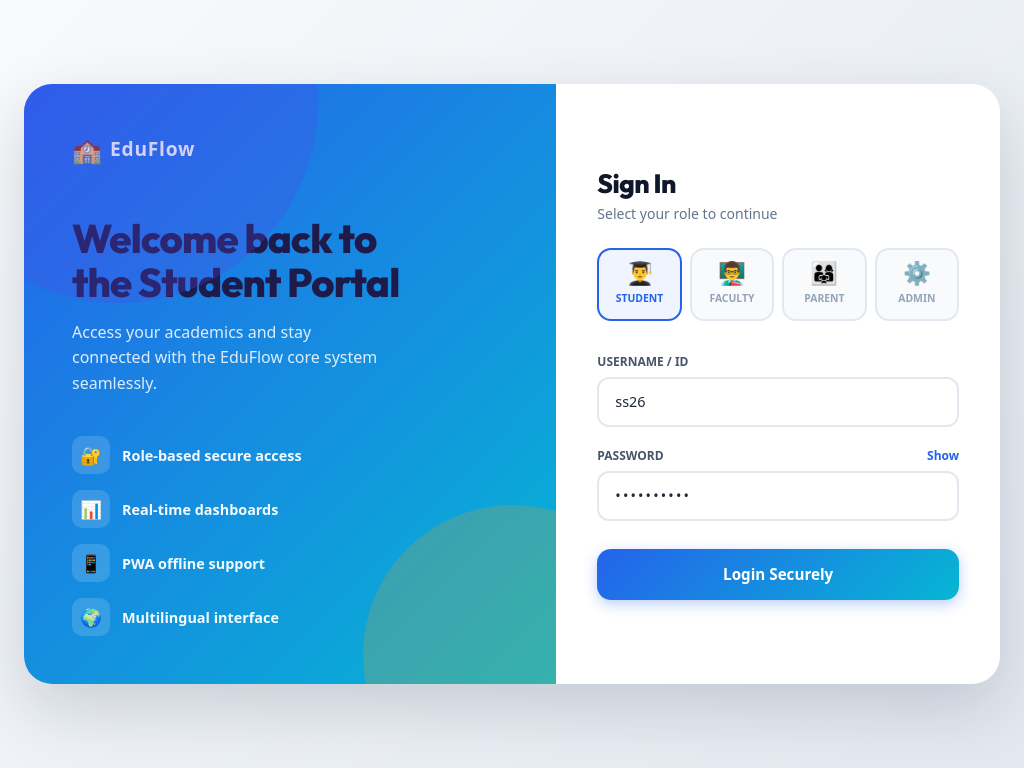
Test: LoginPage › loads the faculty demo credentials
The image size is (1024, 768).
Click the button "👨‍🏫 Faculty". click: (732,285)
box: [690,248,774,321]
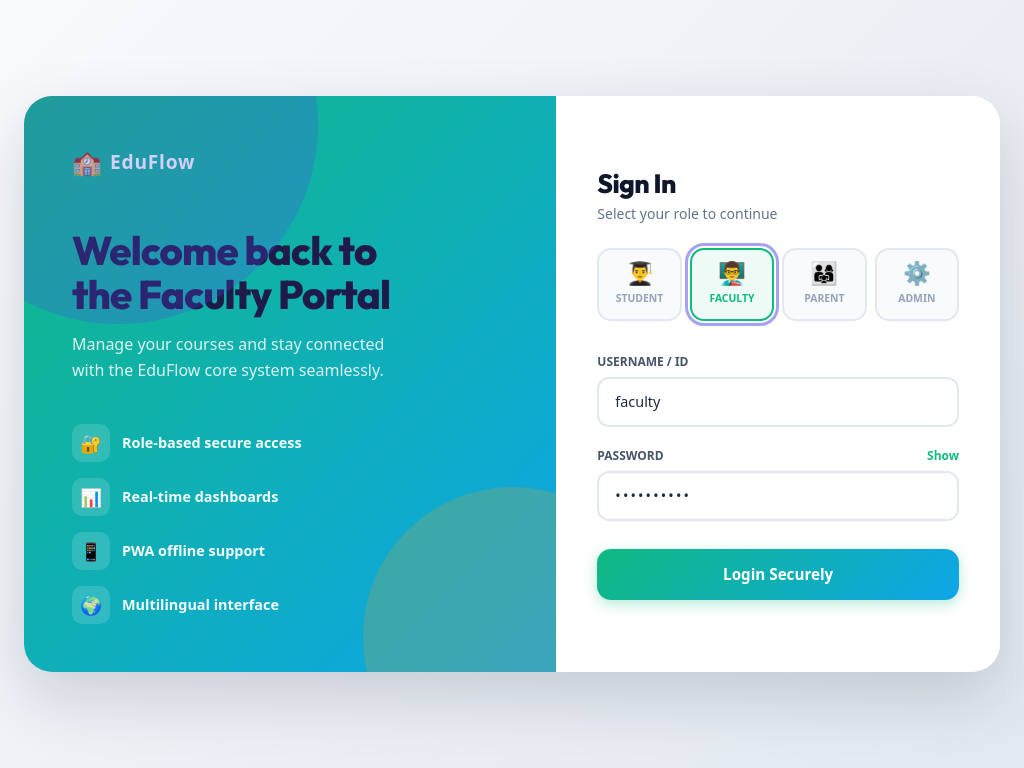
Expected: the text "Username / ID" is shown, [597,353,688,370]
Now the field showing "faculty" is shown, box [597,377,959,427]
